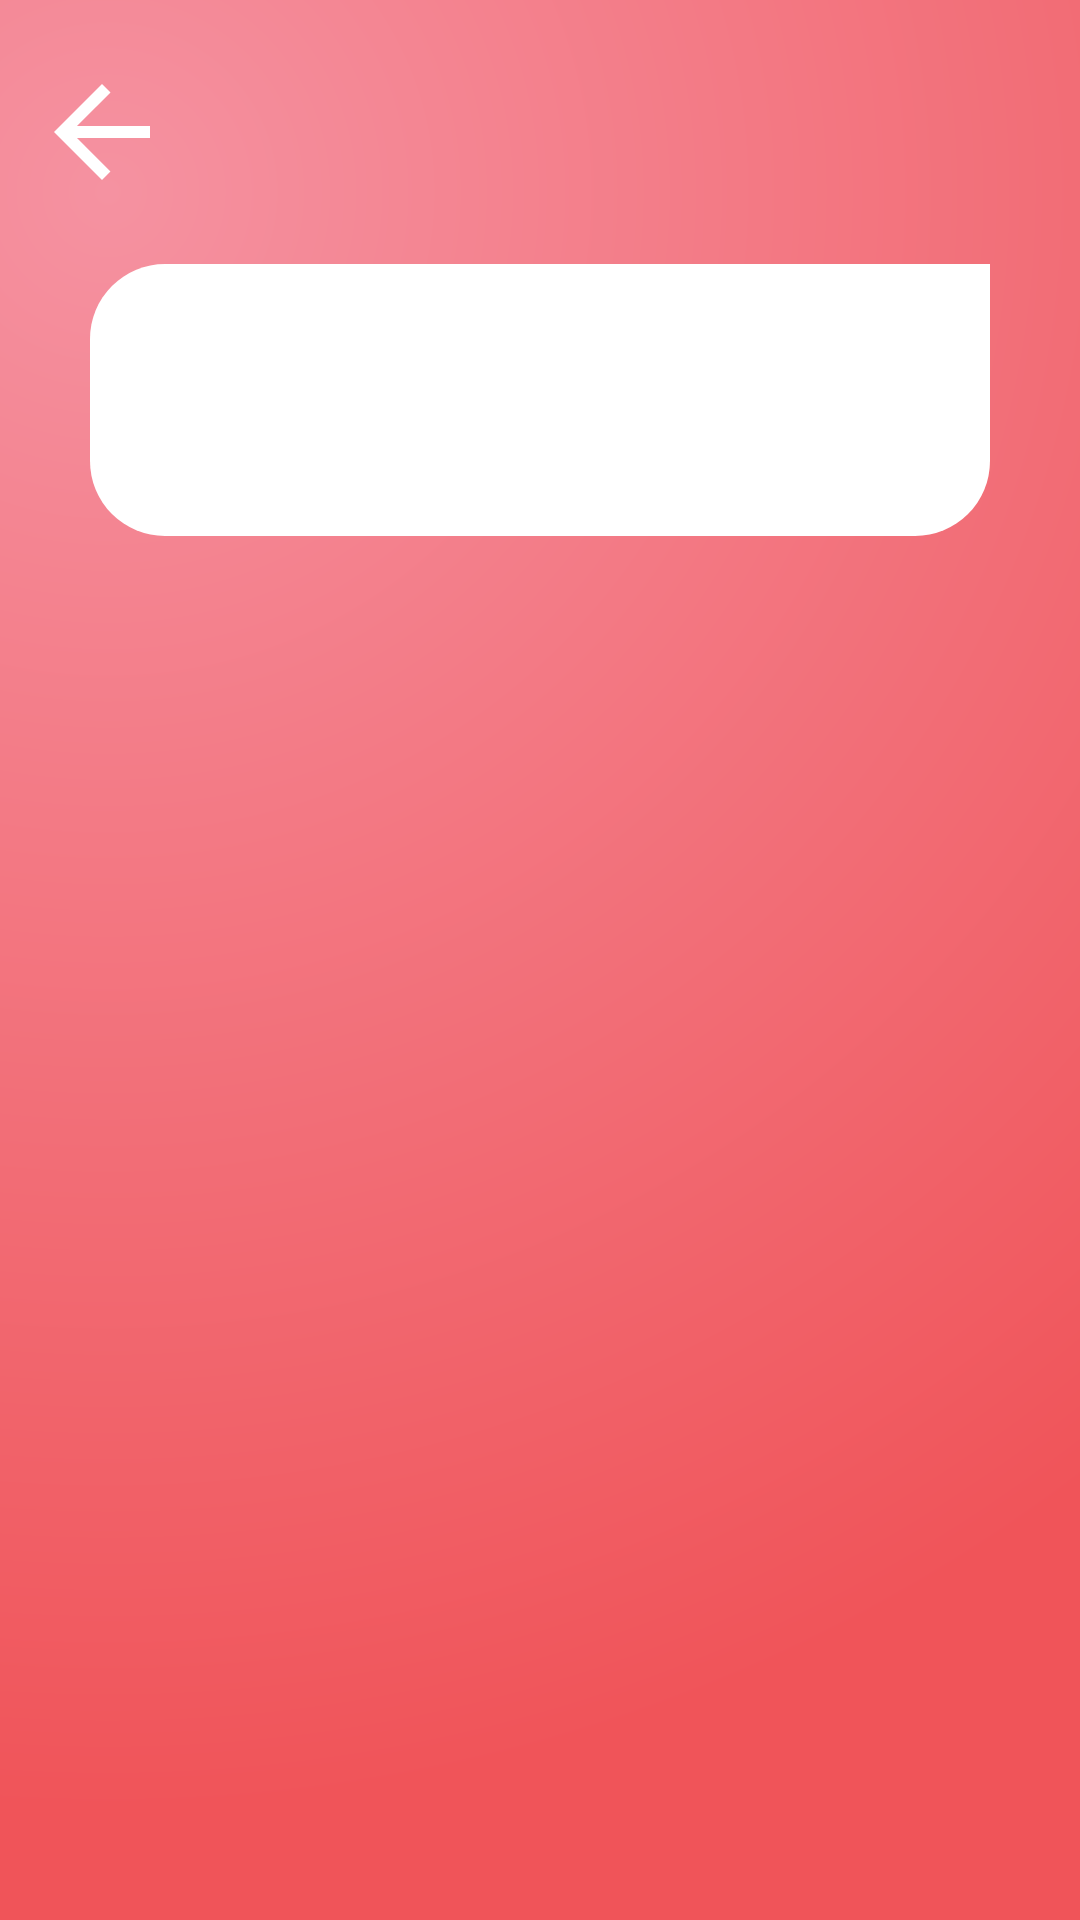

Screen size 1080px x 1920px. Icon name, then its box in pixels as (x1, y1, x2, y2):
arrow back: (54, 84, 150, 180)
